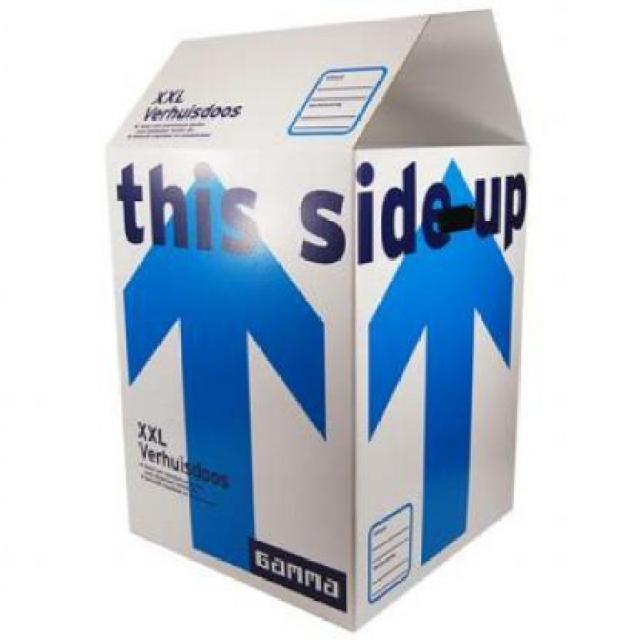box: (103, 8, 536, 634)
